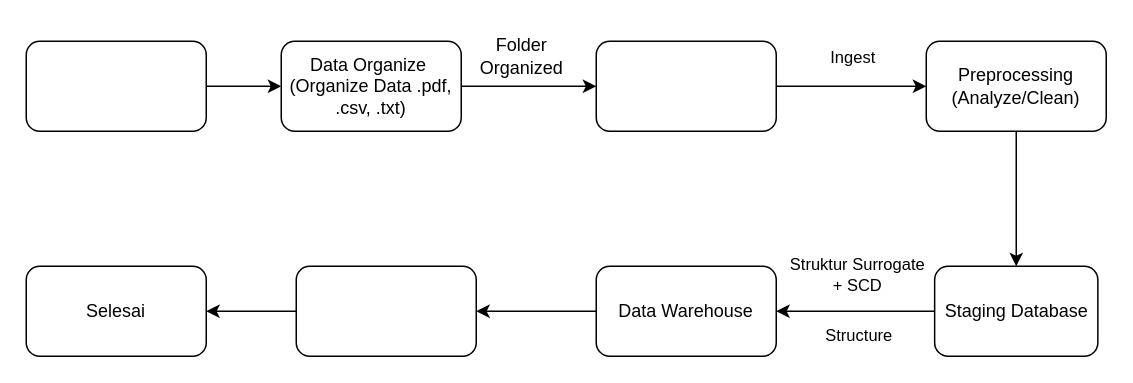
This 1133x383 diagram has some shape labels left out. Each missing label, with the box of its shape:
Dashboard Visualisasi: (295, 265, 476, 356)
Start: (25, 40, 206, 131)
Sumber Data (.pdf, .csv, .txt): (595, 40, 776, 131)
